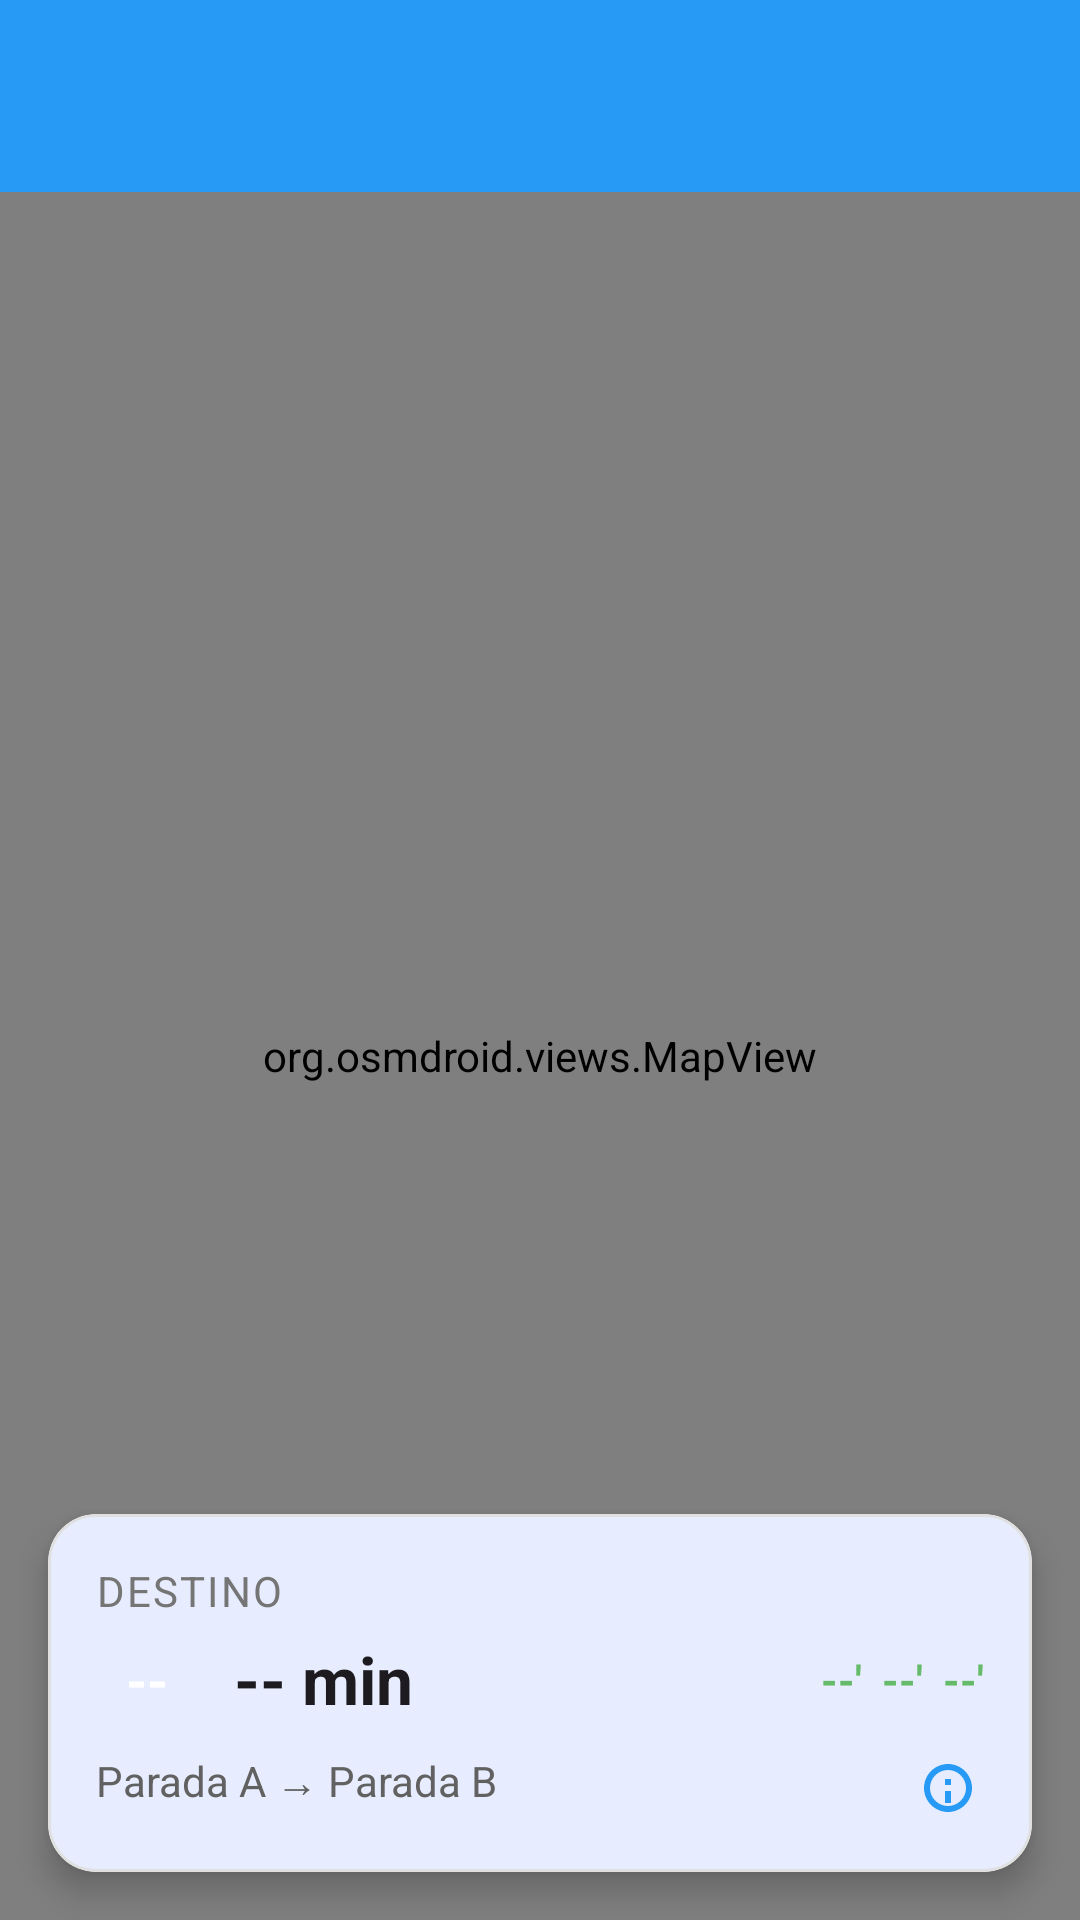

Screen size 1080w x 1920h. Icon name, then its center in pixels as point (x, y):
Info: point (948, 1788)
